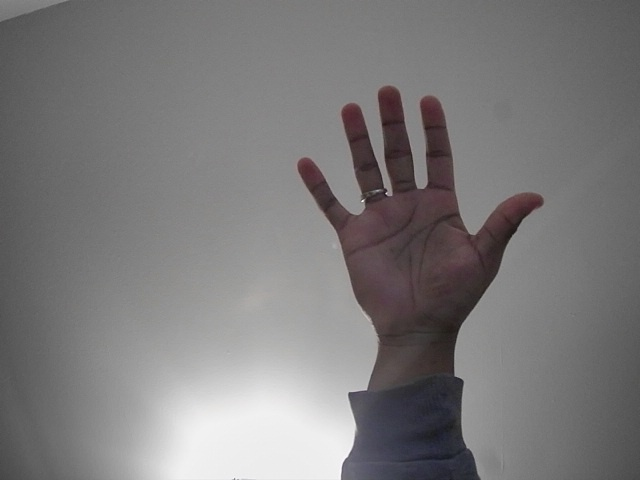Hello: (111, 76, 376, 325)
